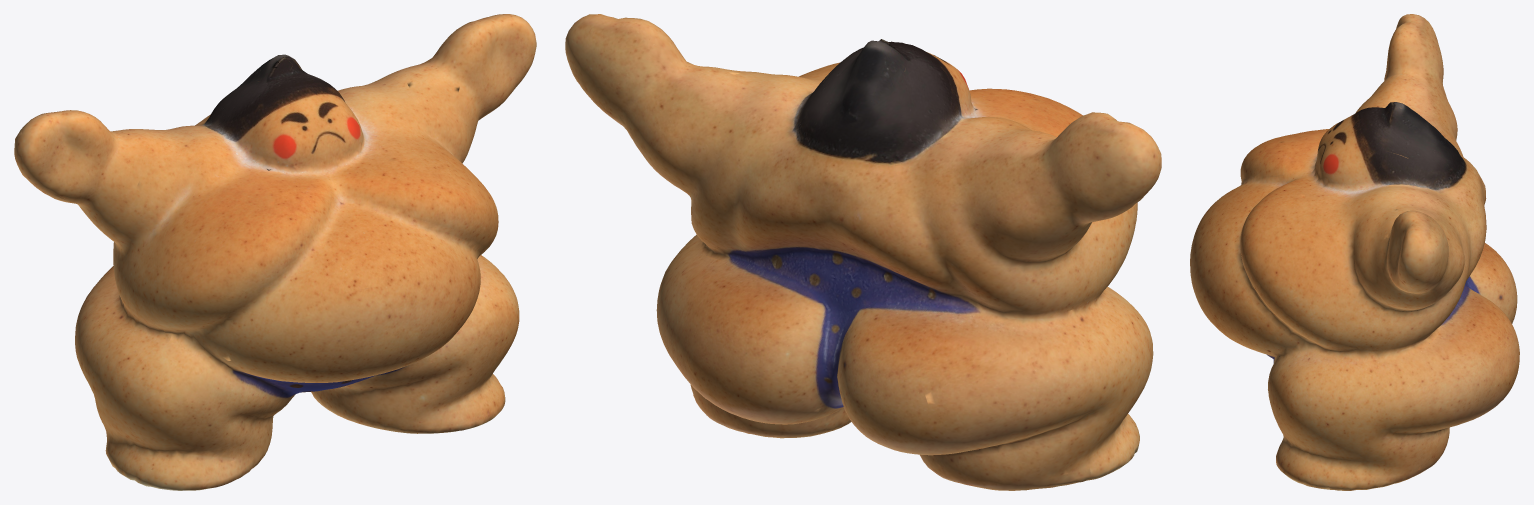
The model's file is sumo_wrestler_statue.glb.
3 views of the same model, side by side, from view 1: azimuth 30°, elevation 25°; view 2: azimuth 150°, elevation 25°; view 3: azimuth 270°, elevation 25° (orthographic). The views are drawn at different scales.
Parts seen in each view (by area): view 1: Object_2; view 2: Object_2; view 3: Object_2.
Part boxes in pixels (bbox=[...]): Object_2: bbox=[14, 14, 536, 490]; Object_2: bbox=[565, 14, 1161, 490]; Object_2: bbox=[1190, 14, 1519, 490].
Bounding box in the file's own units: 7.11 × 4.7 × 4.46.
1 material, 1 textured.
